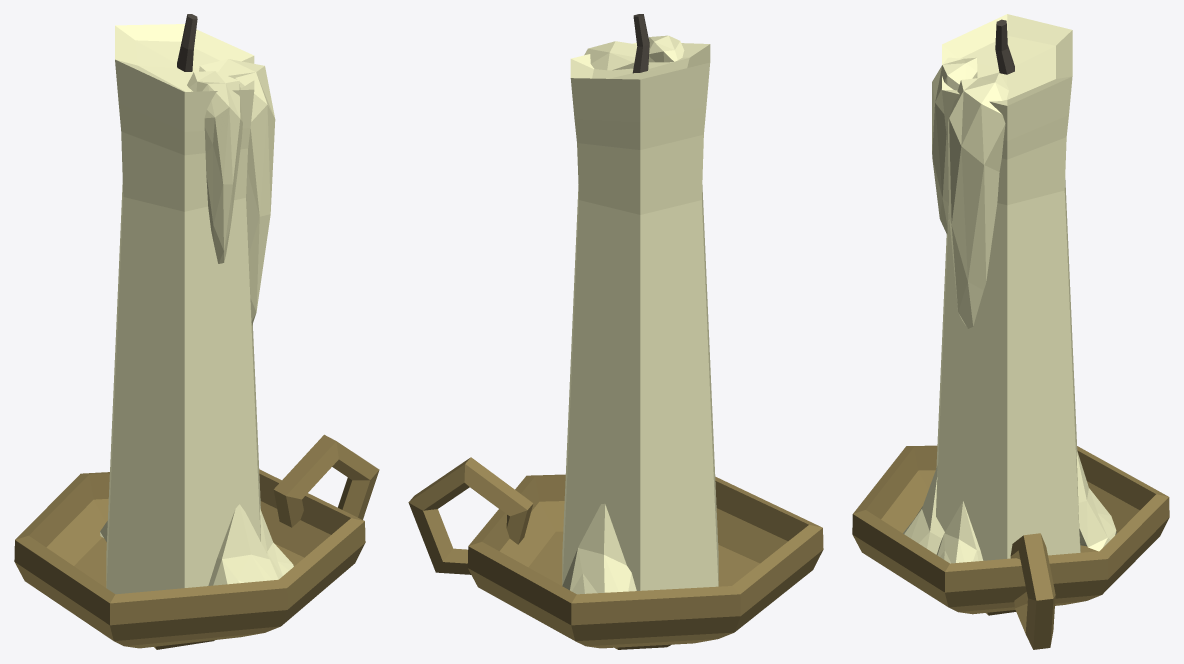
The model's file is candle_1.fbx.
The picture shows the model from 3 angles, left to right: view 1: azimuth 30°, elevation 25°; view 2: azimuth 150°, elevation 25°; view 3: azimuth 270°, elevation 25°; orthographic projection. The views are drawn at different scales.
Visible parts, largest first — view 1: pTorus3; view 2: pTorus3; view 3: pTorus3.
Boxes of the visible parts, x1,y1,x2,y2 form: pTorus3: (14,14,379,649); pTorus3: (408,14,823,649); pTorus3: (852,14,1169,649).
Bounding box in the file's own units: 0.1935 × 0.3273 × 0.1643.
